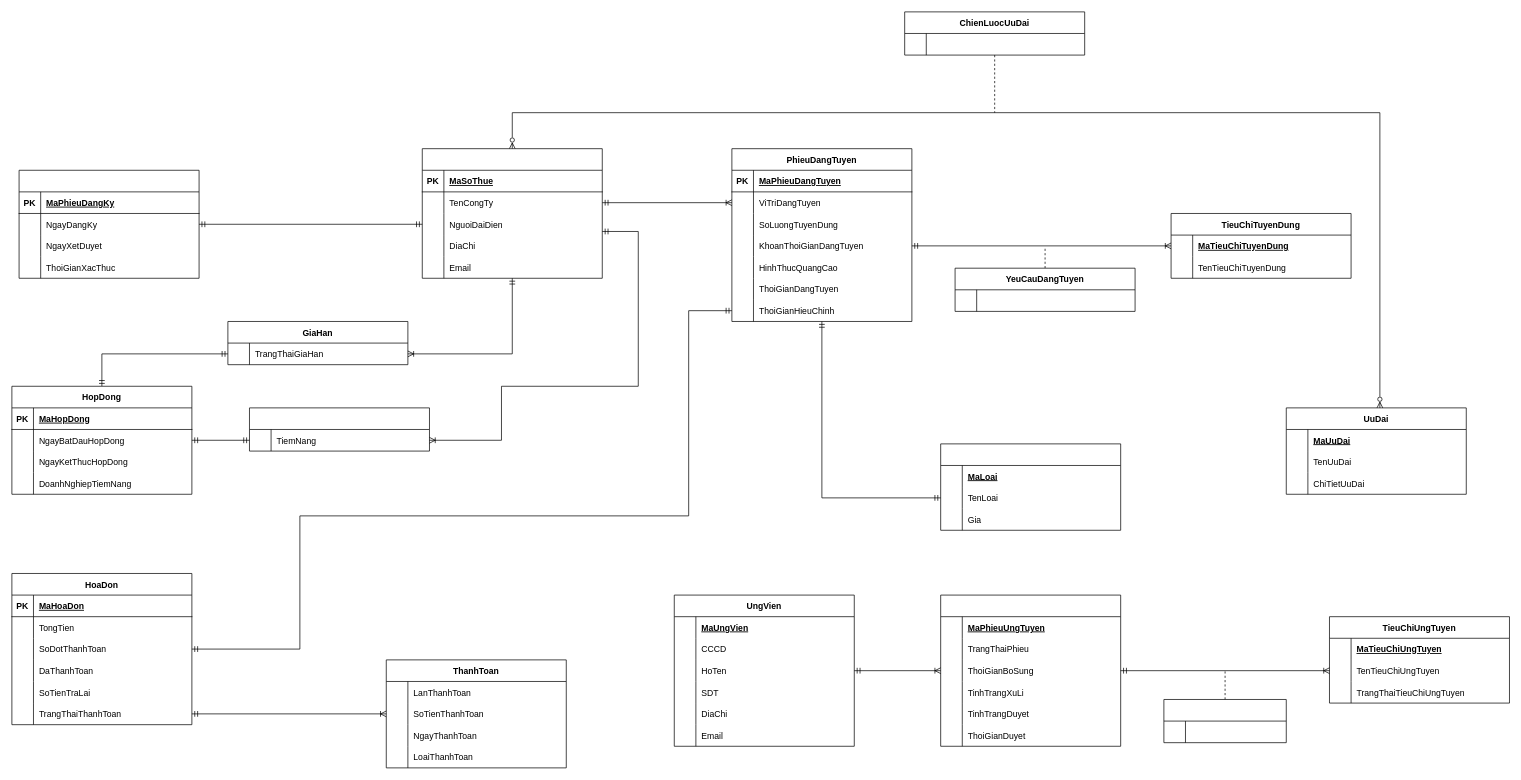
Image size: 1521x780. Some labels were removed from this diagram. Each missing label, with the box of its shape:
DoanhNghiep: (422, 148, 602, 278)
DoUuTien: (1163, 699, 1286, 743)
PhieuDangKyThanhVien: (18, 170, 199, 278)
PhieuDangKyUngTuyen: (940, 594, 1121, 746)
QuangCao: (940, 443, 1121, 530)
TiemNangDoanhNghiep: (249, 407, 429, 451)
